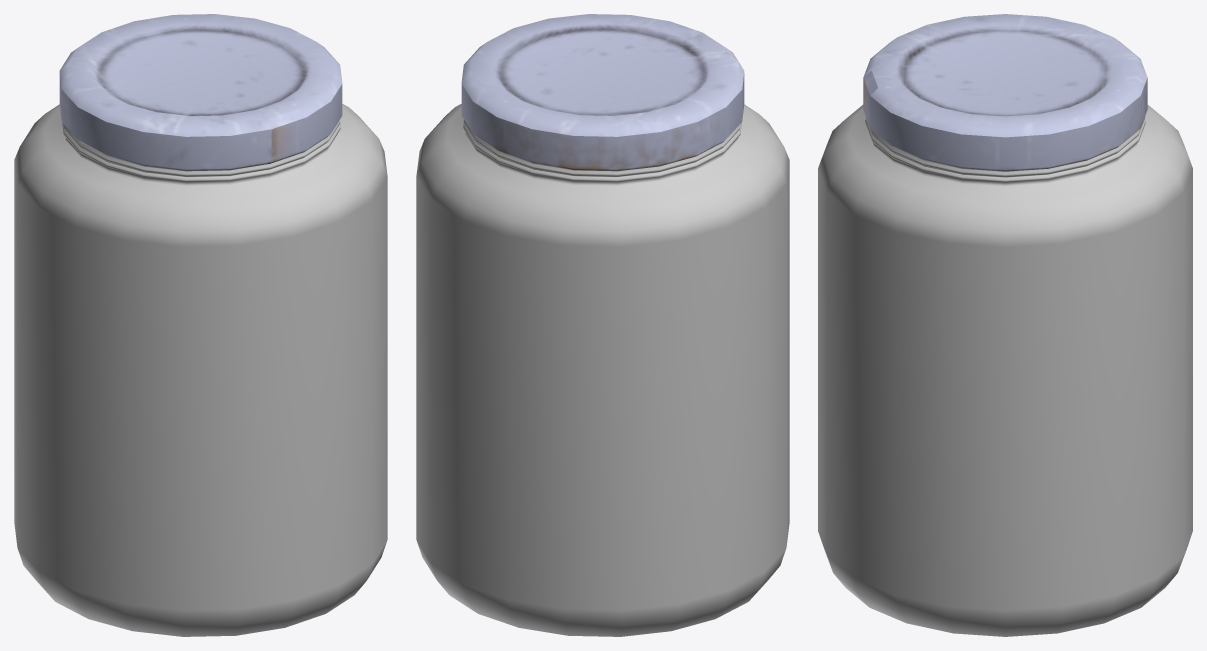
The model's file is SM_Glass_Jar_A.fbx.
The picture shows the model from 3 angles, left to right: view 1: azimuth 30°, elevation 25°; view 2: azimuth 150°, elevation 25°; view 3: azimuth 270°, elevation 25°; orthographic projection.
Parts seen in each view (by area): view 1: SM_Glass_Jar_A_LOD0; view 2: SM_Glass_Jar_A_LOD0; view 3: SM_Glass_Jar_A_LOD0.
Part boxes in pixels (x1,y1,x2,y2): SM_Glass_Jar_A_LOD0: (14, 14, 387, 636); SM_Glass_Jar_A_LOD0: (416, 14, 789, 636); SM_Glass_Jar_A_LOD0: (818, 14, 1192, 636).
Bounding box in the file's own units: 23.94 × 23.94 × 35.4.
Materials: 2 (1 with a texture image).
